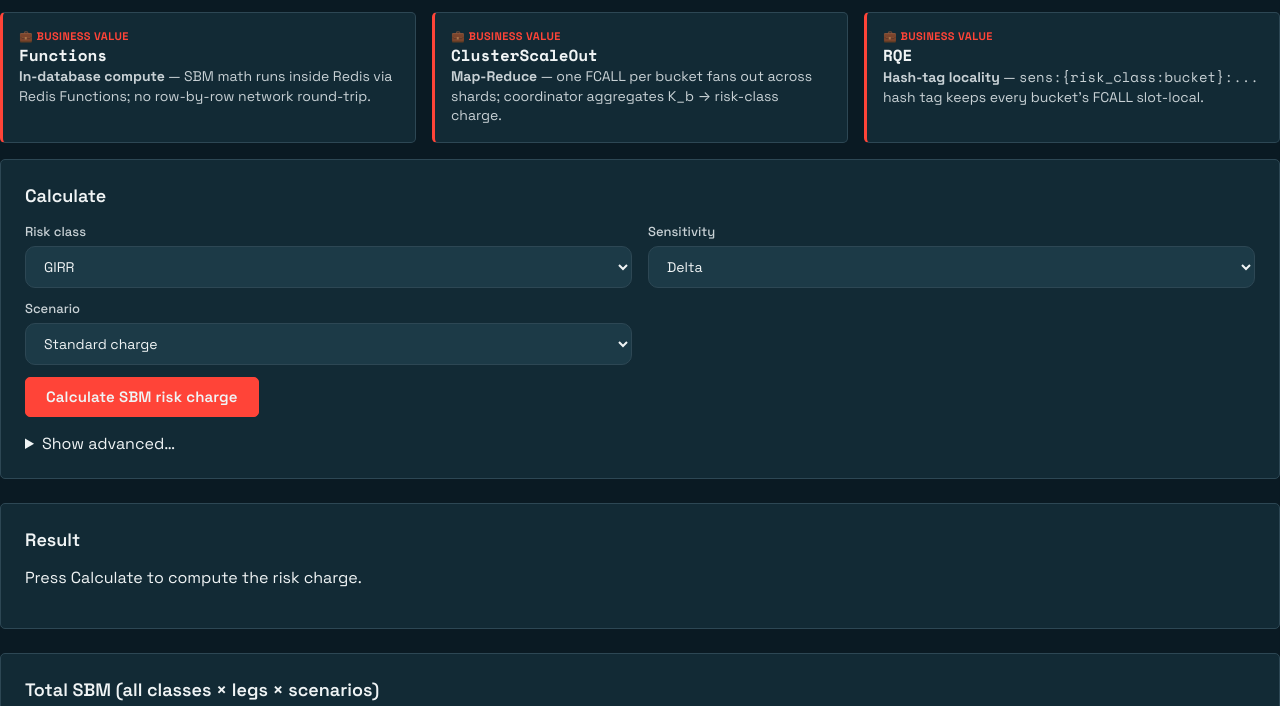
Test: CalcPanel Wave 5.18 polish + drill-down › Load 20 more increments offset and appends rows
Click the button "Calculate SBM risk charge": (142, 397) x1=25 y1=377 x2=259 y2=417
(page scrolled)
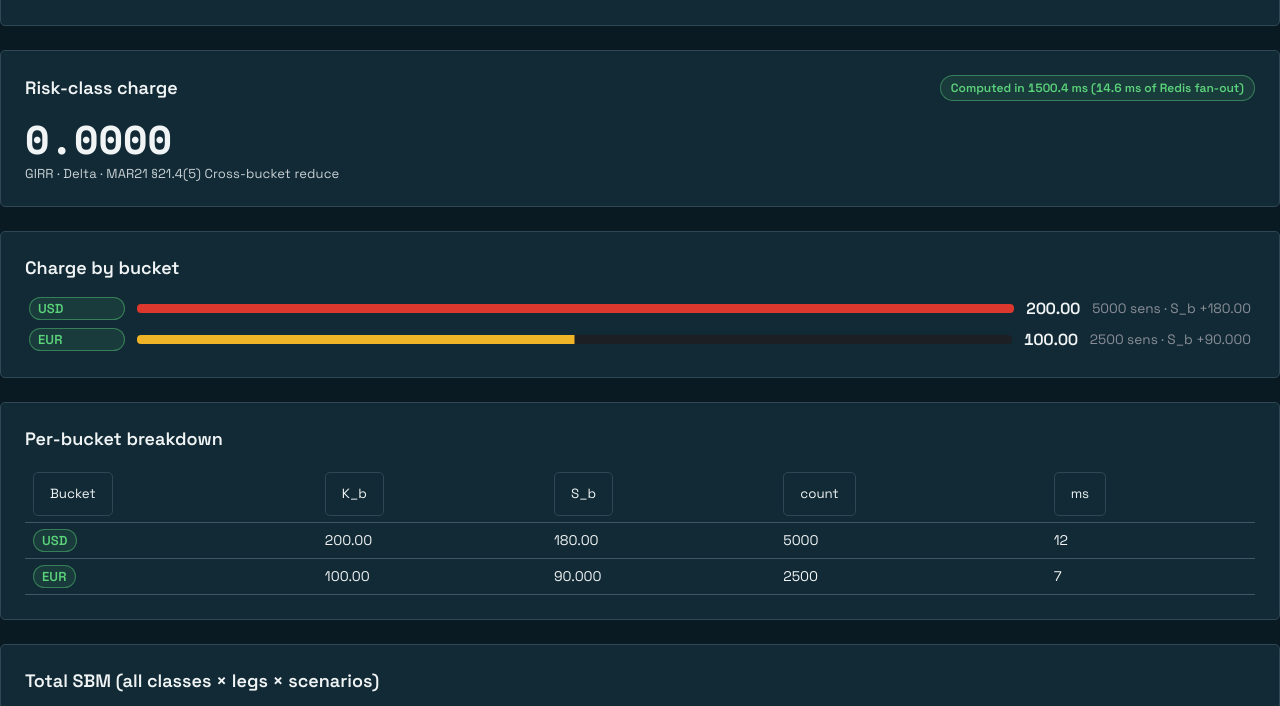
Now the text "0.0000" is shown, box x1=25 y1=117 x2=172 y2=161
Click the button with test id "bucket-chart-row" that starts with "USD": (640, 308) x1=25 y1=295 x2=1255 y2=322
(page scrolled)
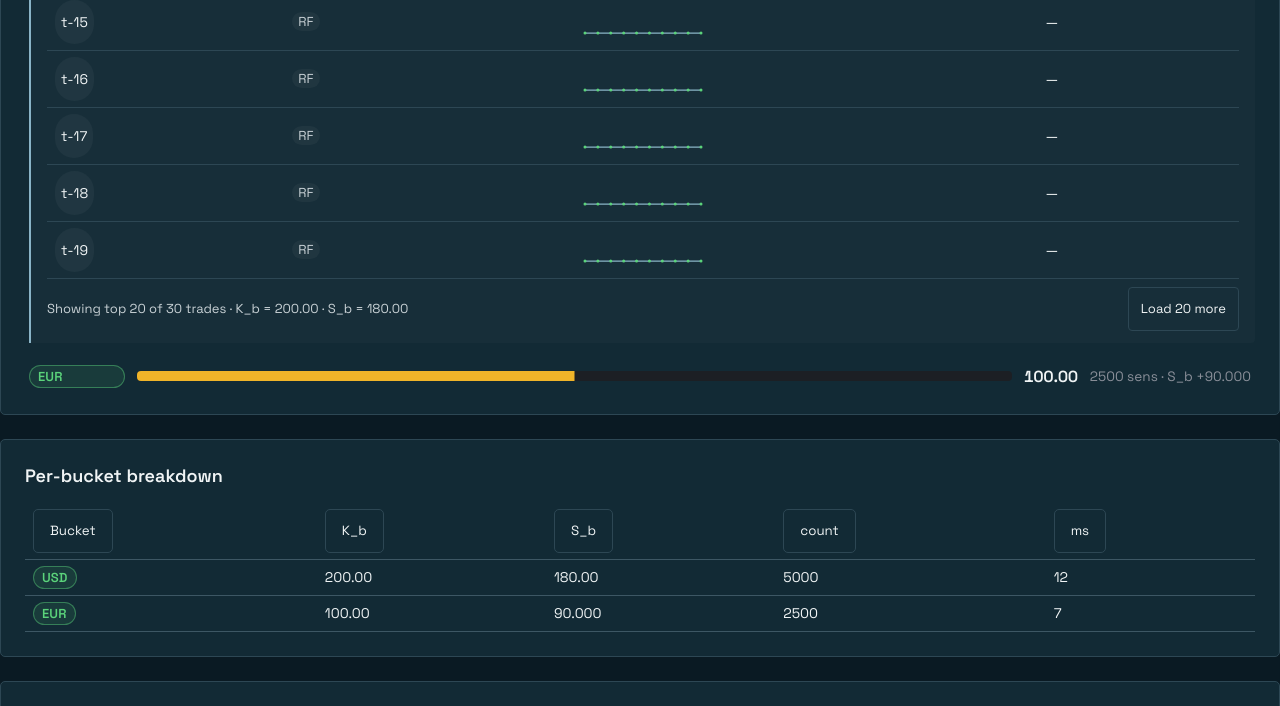
Click the button with test id "bucket-drilldown-load-more": (1183, 309) x1=1128 y1=287 x2=1239 y2=331
(page scrolled)
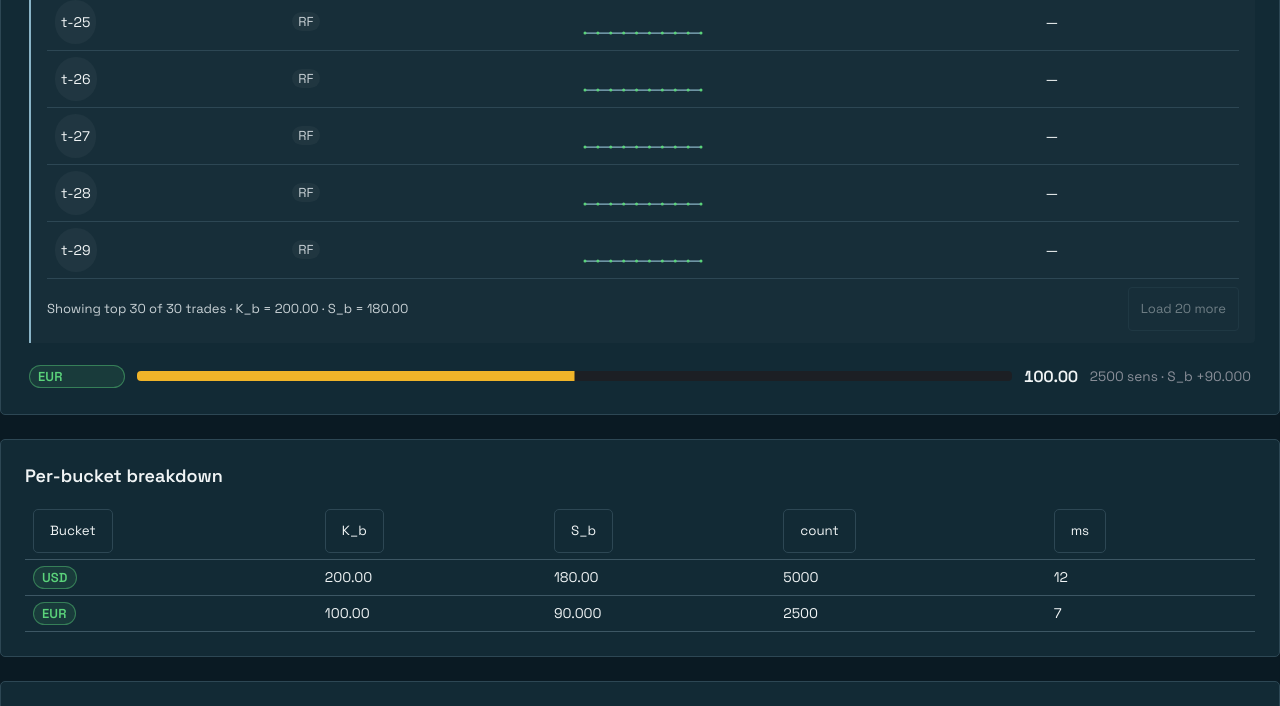
Now the button with test id "bucket-drilldown-load-more" is disabled, box x1=1128 y1=287 x2=1239 y2=331
